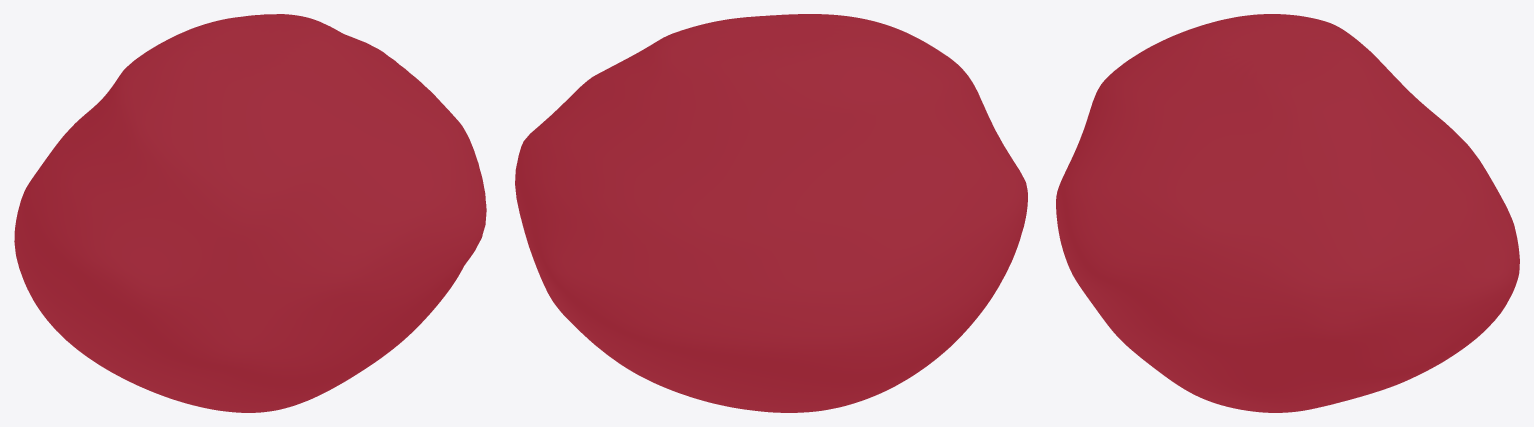
File: etacar_hydrogen.glb
3 renders of one model, left to right at view 1: azimuth 30°, elevation 25°; view 2: azimuth 150°, elevation 25°; view 3: azimuth 270°, elevation 25°, orthographic. The views are drawn at different scales.
Visible parts, largest first — view 1: Hydrogen_Emission_baked; view 2: Hydrogen_Emission_baked; view 3: Hydrogen_Emission_baked.
Boxes of the visible parts, box(x1,y1,x2,y2) form: Hydrogen_Emission_baked: box(14, 14, 486, 412); Hydrogen_Emission_baked: box(515, 14, 1027, 412); Hydrogen_Emission_baked: box(1056, 14, 1519, 412).
Size of the model in its own units: 1.46 by 1.13 by 1.39.
Materials: 1 (1 with a texture image).
